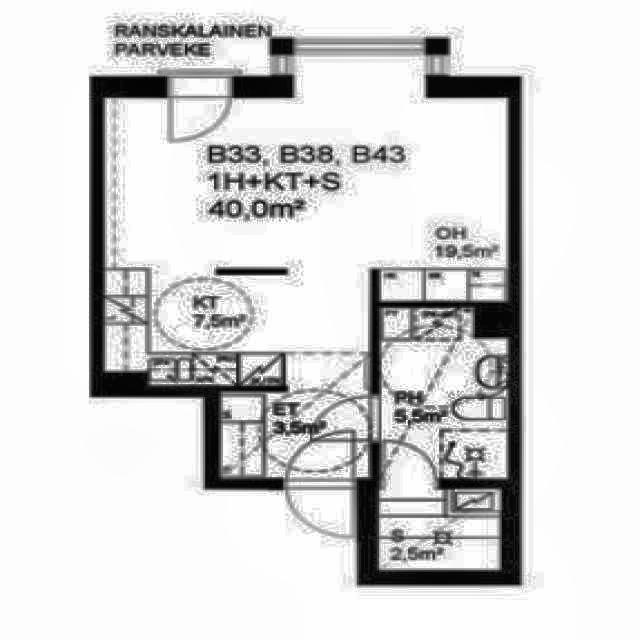room: (381, 308, 508, 480), (379, 490, 500, 571)
